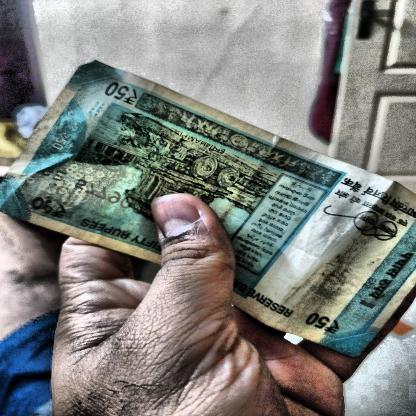Rs50: (87, 72, 151, 115), (300, 307, 346, 339)
